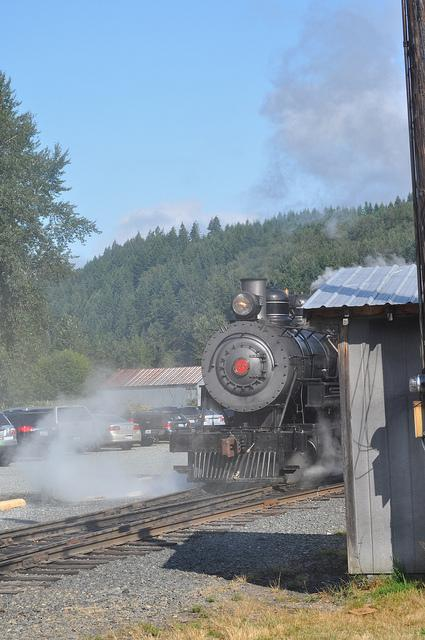Train: (162, 269, 347, 496)
